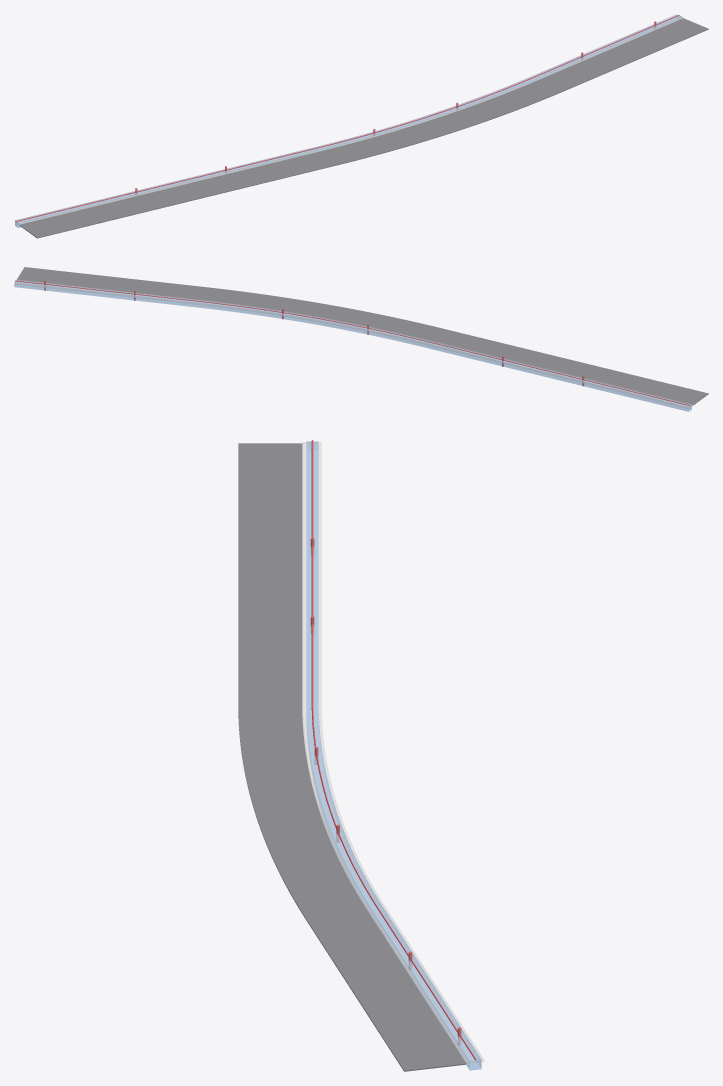
3 renders of one model, top to bottom at view 1: azimuth 30°, elevation 25°; view 2: azimuth 150°, elevation 25°; view 3: azimuth 270°, elevation 25°, orthographic. The views are drawn at different scales.
Parts seen in each view (by area): view 1: 道路|車道 (参考), 概略形状|管路部 範囲ボックス, 道路|歩道 (参考), 道路|歩車道境界ブロック (参考), 線形|管路ルート (中心線); view 2: 道路|車道 (参考), 概略形状|管路部 範囲ボックス, 道路|歩道 (参考), 線形|管路ルート (中心線), 道路|歩車道境界ブロック (参考); view 3: 道路|車道 (参考), 道路|歩道 (参考), 概略形状|管路部 範囲ボックス, 線形|管路ルート (中心線), 道路|歩車道境界ブロック (参考).
Part boxes in pixels (x1,y1,x2,y2): 道路|車道 (参考): [19, 18, 708, 238]; 概略形状|管路部 範囲ボックス: [15, 14, 681, 227]; 道路|歩道 (参考): [14, 15, 682, 224]; 道路|歩車道境界ブロック (参考): [19, 17, 683, 224]; 線形|管路ルート (中心線): [16, 15, 679, 221]; 道路|車道 (参考): [17, 267, 708, 405]; 概略形状|管路部 範囲ボックス: [14, 280, 691, 411]; 道路|歩道 (参考): [14, 280, 692, 408]; 線形|管路ルート (中心線): [15, 280, 690, 405]; 道路|歩車道境界ブロック (参考): [16, 279, 692, 405]; 道路|車道 (参考): [238, 443, 465, 1071]; 道路|歩道 (参考): [303, 442, 484, 1063]; 概略形状|管路部 範囲ボックス: [306, 441, 481, 1070]; 線形|管路ルート (中心線): [311, 440, 476, 1060]; 道路|歩車道境界ブロック (参考): [302, 442, 466, 1064].
Size of the model in its own units: 240 by 3.5 by 39.86.
